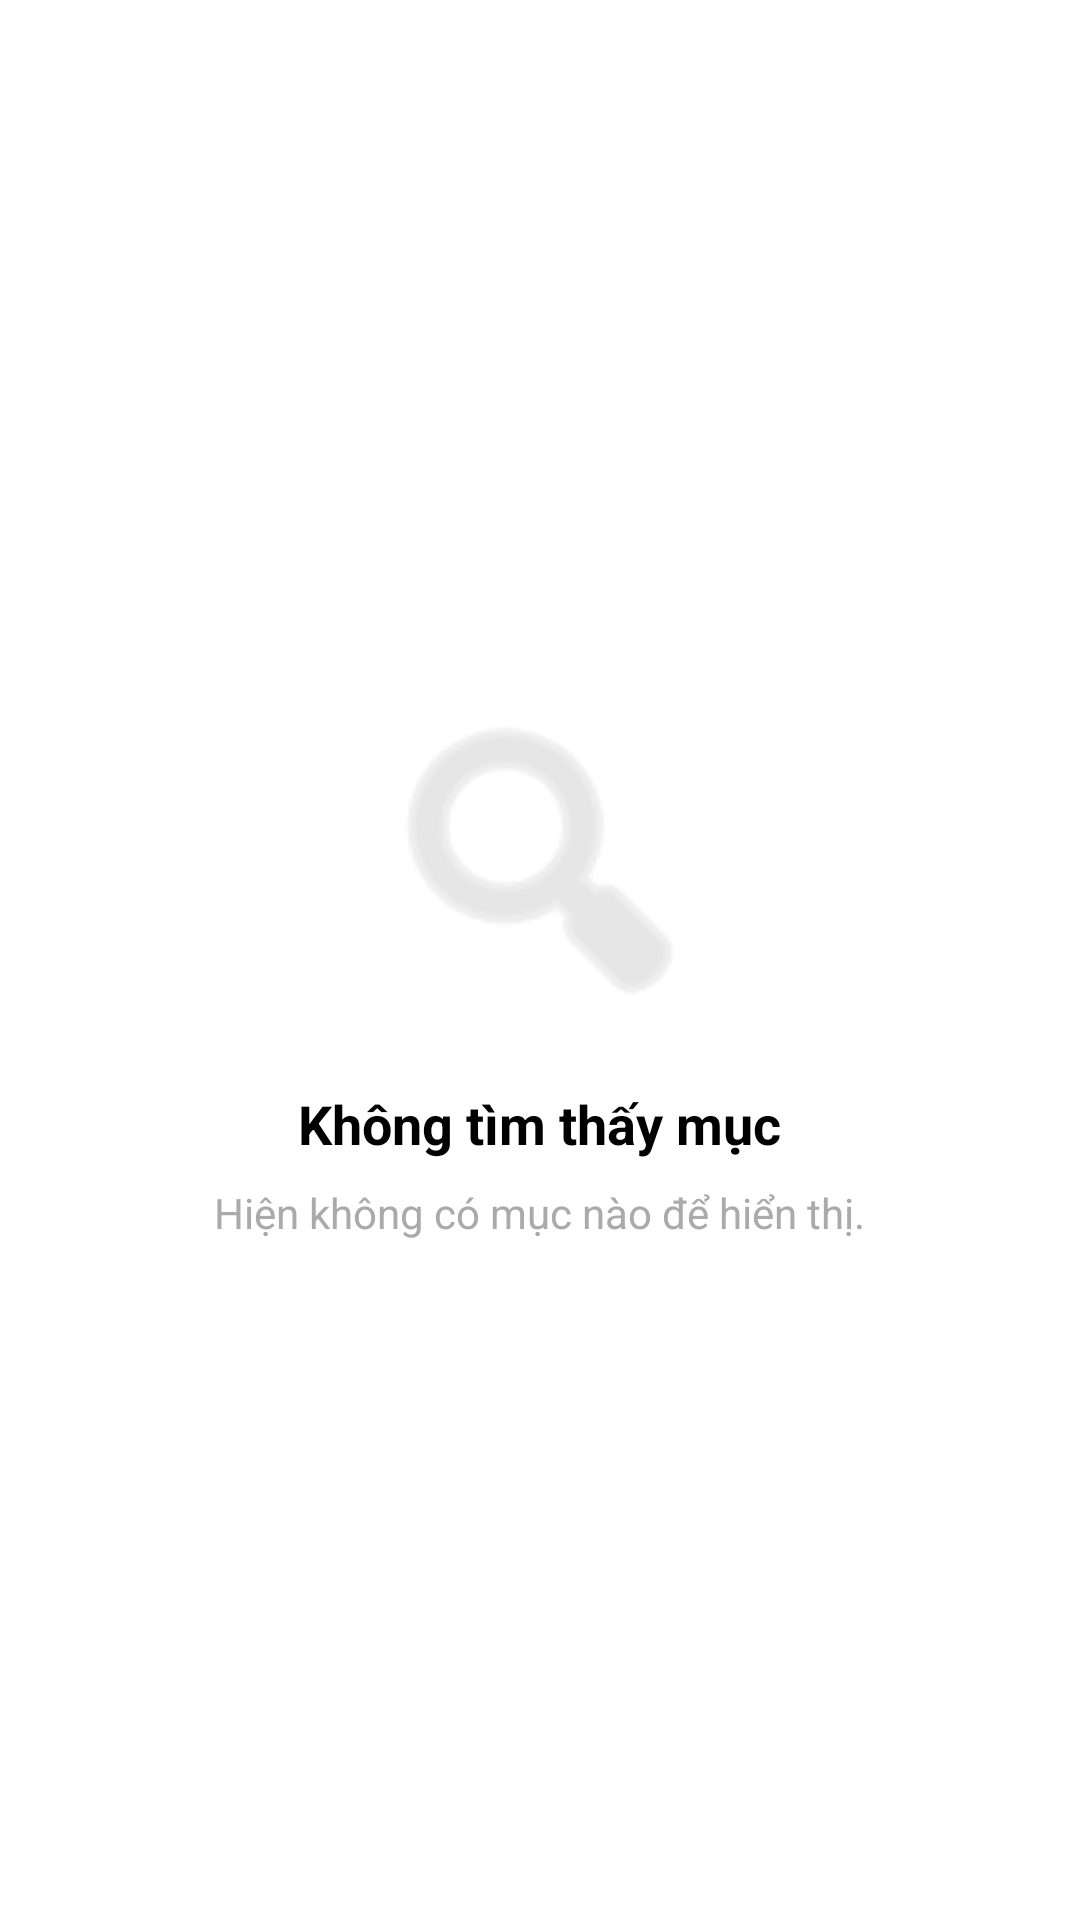

Where icons sit on this 1080×1920 app screen, as (x1, y1, x2, y2):
search: (417, 738, 663, 983)
